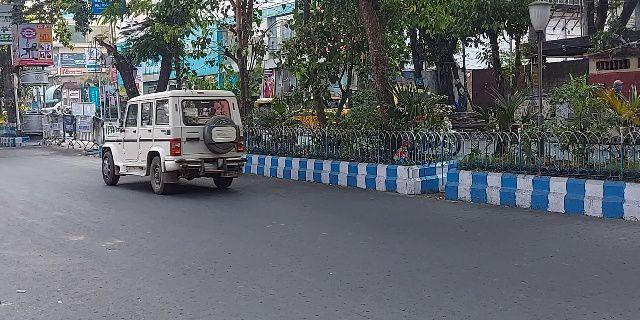Car: (97, 88, 250, 196)
